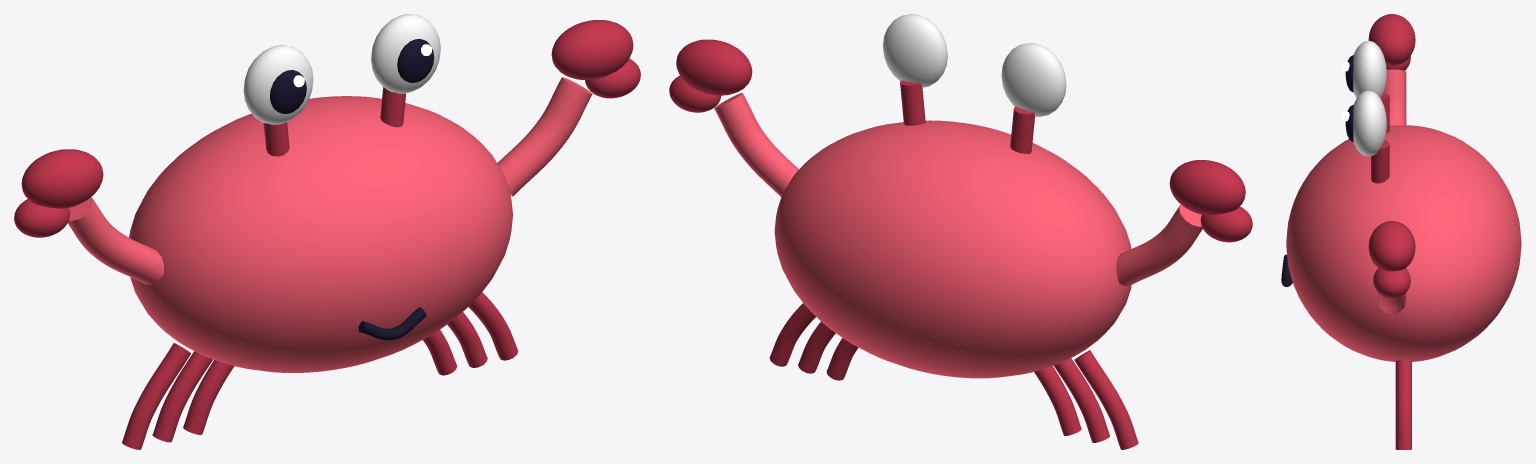
The model's file is mimozemstan_krab.glb.
The picture shows the model from 3 angles, left to right: view 1: azimuth 30°, elevation 25°; view 2: azimuth 150°, elevation 25°; view 3: azimuth 270°, elevation 25°; orthographic projection. The views are drawn at different scales.
Parts seen in each view (by area): view 1: krab_telo, krab_paze_1, krab_klepeto_a_1, krab_klepeto_a_-1, krab_paze_-1, krab_-1_oko_0, krab_1_oko_0, krab_noha_-1_2, krab_noha_-1_1, krab_noha_-1_0, krab_klepeto_b_-1, krab_noha_1_2 (+8 smaller); view 2: krab_telo, krab_-1_oko_0, krab_1_oko_0, krab_paze_1, krab_klepeto_a_1, krab_klepeto_a_-1, krab_paze_-1, krab_noha_-1_2, krab_noha_-1_1, krab_noha_-1_0, krab_klepeto_b_-1, krab_noha_1_2 (+5 smaller); view 3: krab_telo, krab_klepeto_a_1, krab_1_oko_0, krab_klepeto_a_-1, krab_-1_oko_0, krab_noha_1_2, krab_paze_-1, krab_klepeto_b_1, krab_stopka_m_1, krab_paze_1.
Part boxes in pixels (x1,y1,x2,y2): krab_telo: (129, 96, 512, 372); krab_paze_1: (497, 77, 592, 196); krab_klepeto_a_1: (551, 20, 633, 79); krab_klepeto_a_-1: (21, 149, 103, 208); krab_paze_-1: (68, 197, 163, 284); krab_-1_oko_0: (243, 45, 313, 124); krab_1_oko_0: (371, 14, 440, 93); krab_noha_-1_2: (122, 343, 190, 449); krab_noha_-1_1: (152, 351, 212, 442); krab_noha_-1_0: (183, 360, 234, 434); krab_klepeto_b_-1: (14, 199, 69, 237); krab_noha_1_2: (468, 292, 518, 360); krab_telo: (774, 120, 1131, 378); krab_-1_oko_0: (1001, 43, 1066, 116); krab_1_oko_0: (883, 14, 947, 87); krab_paze_1: (714, 93, 798, 196); krab_klepeto_a_1: (676, 39, 752, 95); krab_klepeto_a_-1: (1169, 160, 1245, 215); krab_paze_-1: (1116, 204, 1202, 286); krab_noha_-1_2: (1074, 350, 1138, 449); krab_noha_-1_1: (1054, 358, 1109, 442); krab_noha_-1_0: (1034, 366, 1081, 435); krab_klepeto_b_-1: (1200, 206, 1252, 242); krab_noha_1_2: (769, 303, 815, 366); krab_telo: (1286, 125, 1521, 361); krab_klepeto_a_1: (1368, 221, 1415, 271); krab_1_oko_0: (1353, 90, 1386, 156); krab_klepeto_a_-1: (1368, 14, 1415, 65); krab_-1_oko_0: (1353, 41, 1386, 98); krab_noha_1_2: (1395, 359, 1411, 449); krab_paze_-1: (1383, 69, 1406, 125); krab_klepeto_b_1: (1373, 268, 1410, 298); krab_stopka_m_1: (1371, 139, 1389, 183); krab_paze_1: (1378, 268, 1406, 314).
Size of the model in its own units: 2.44 by 1.46 by 1.02.
